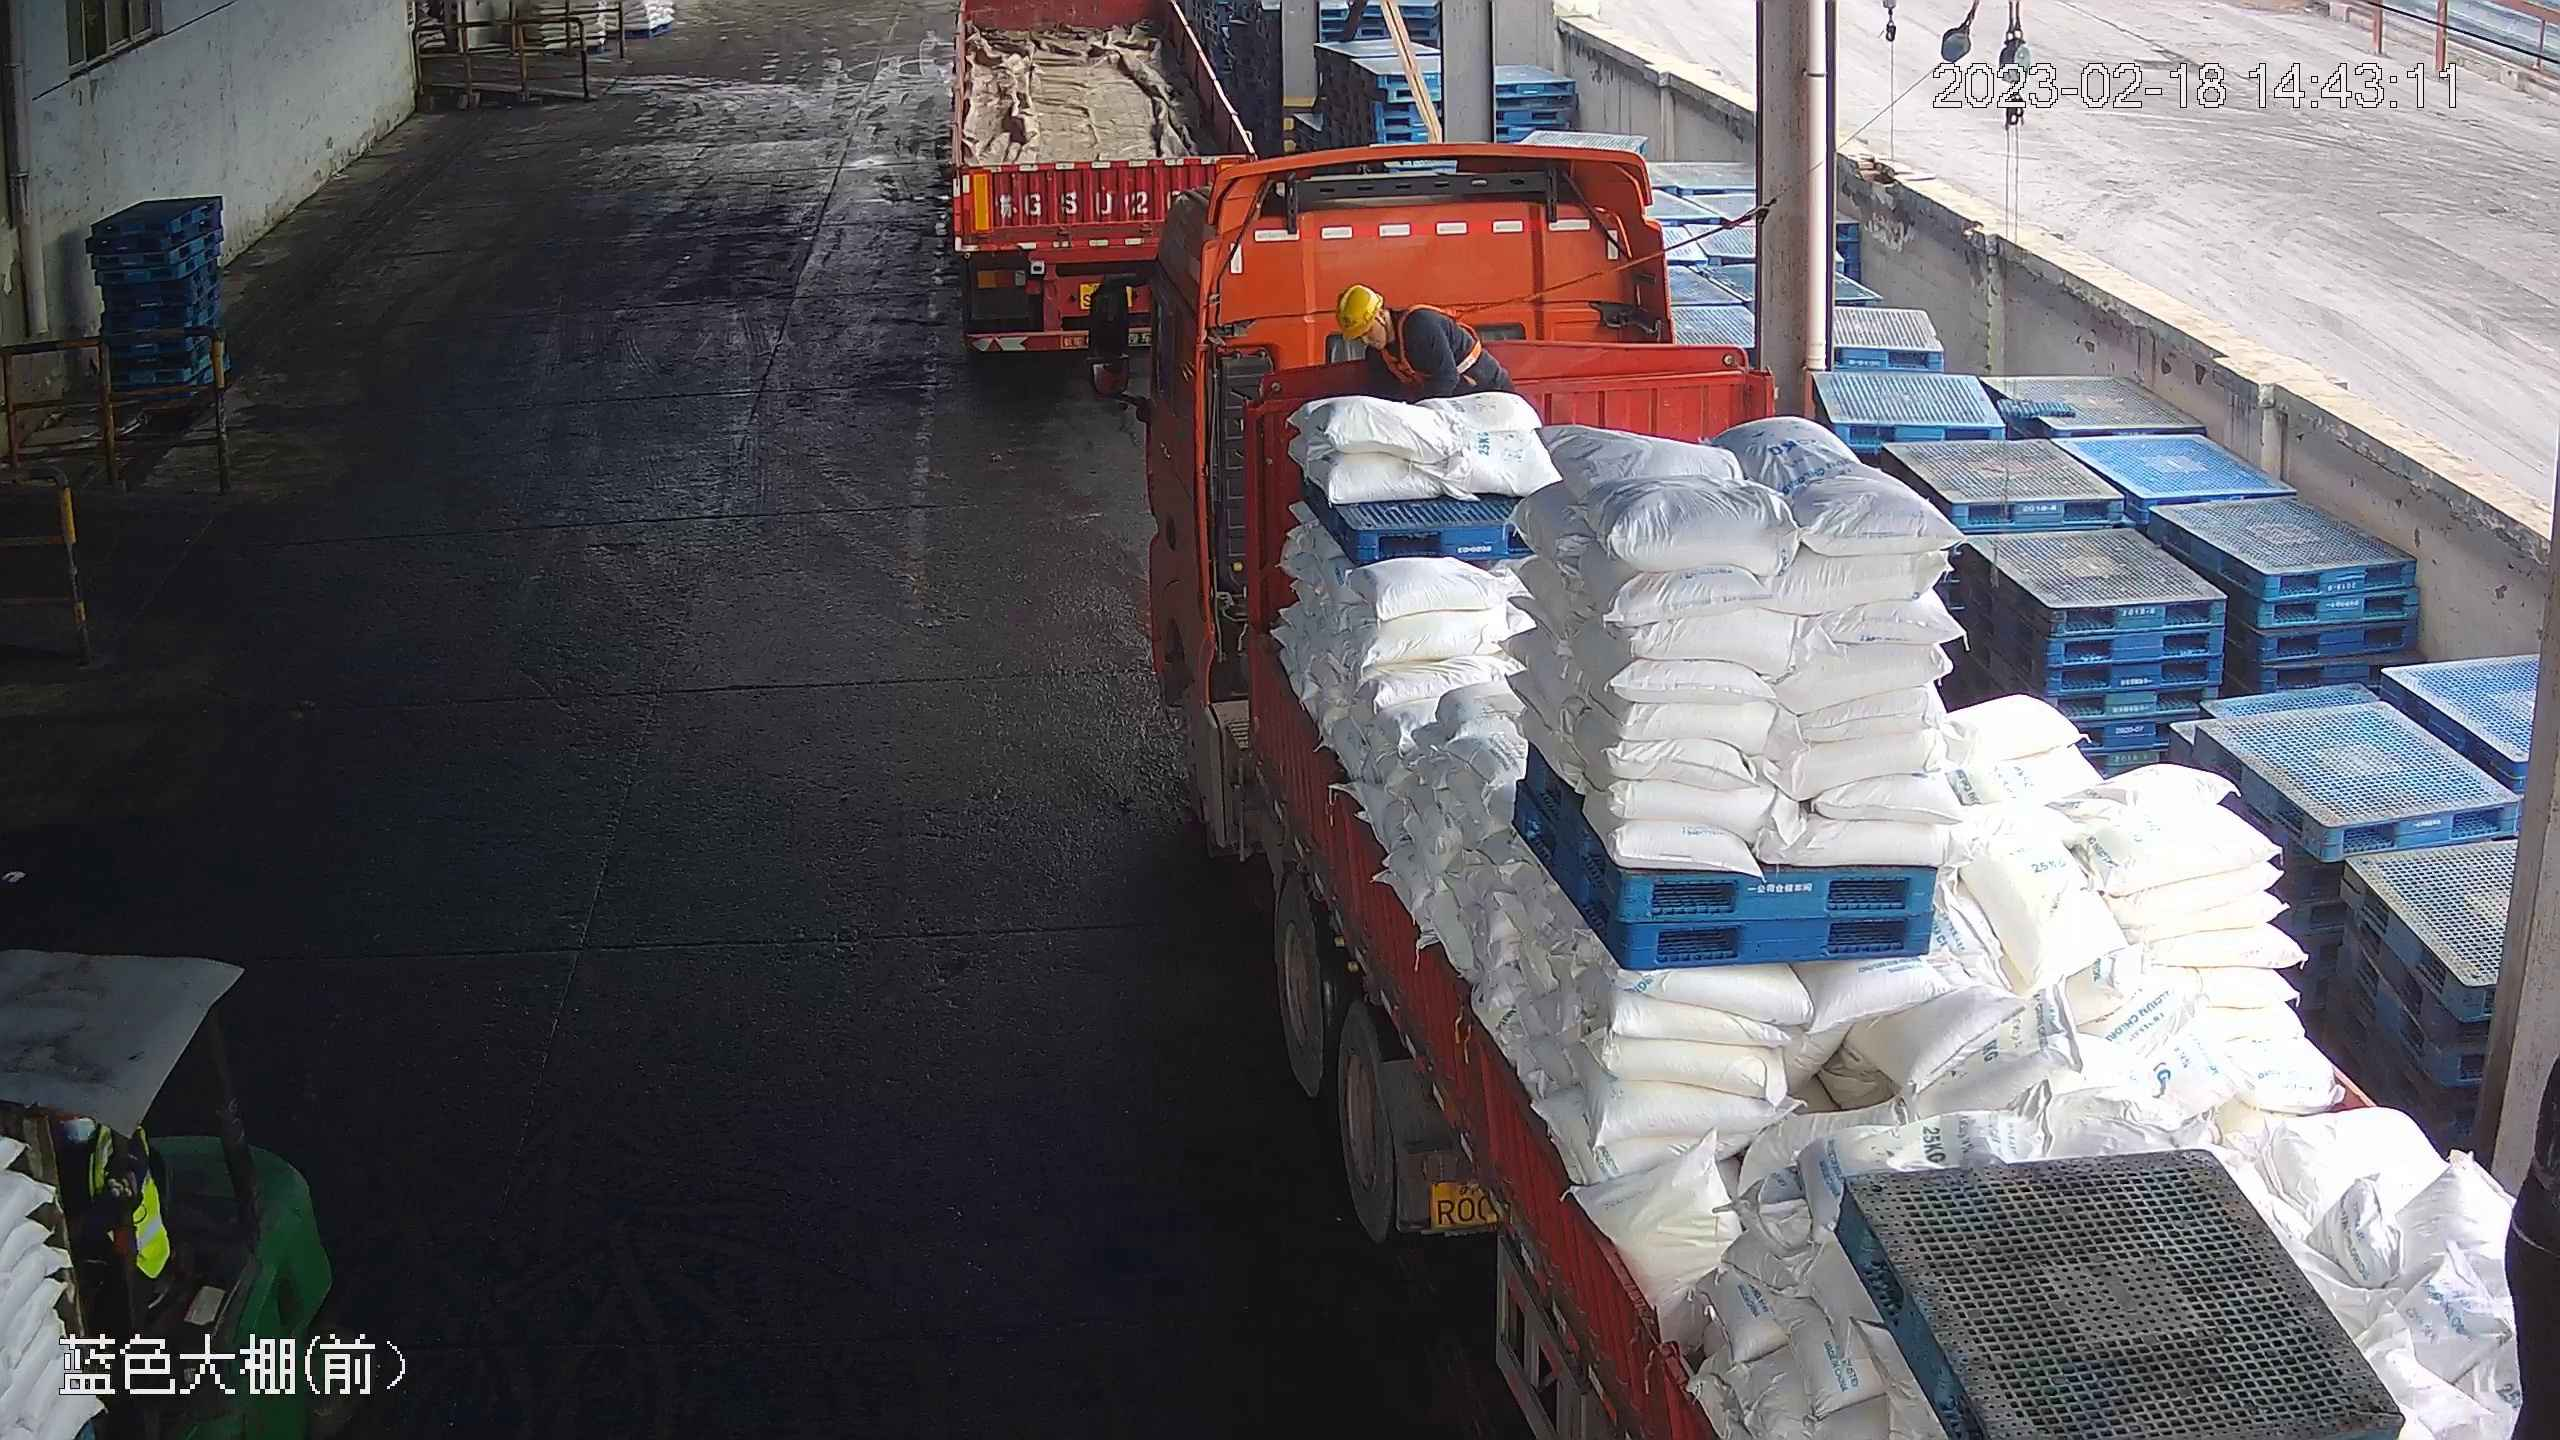belt: (1374, 305, 1471, 379)
head: (1328, 278, 1456, 356)
helmet: (1329, 278, 1385, 338)
truck: (1086, 140, 2555, 1440), (947, 1, 1259, 354)
